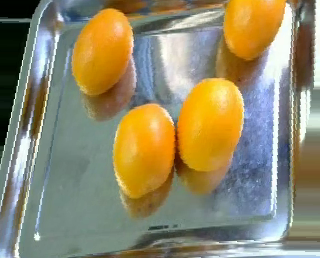Orange: (176, 76, 245, 172), (112, 102, 176, 199), (70, 6, 133, 95)
